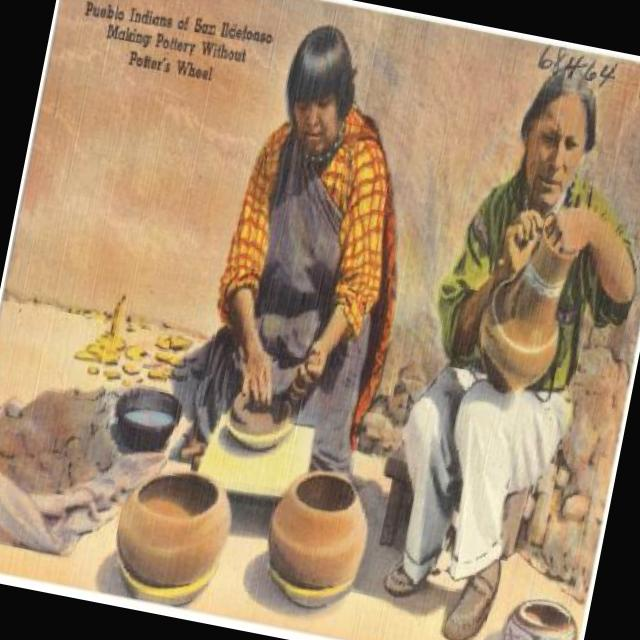Person: (370, 47, 640, 640), (163, 24, 440, 521)
